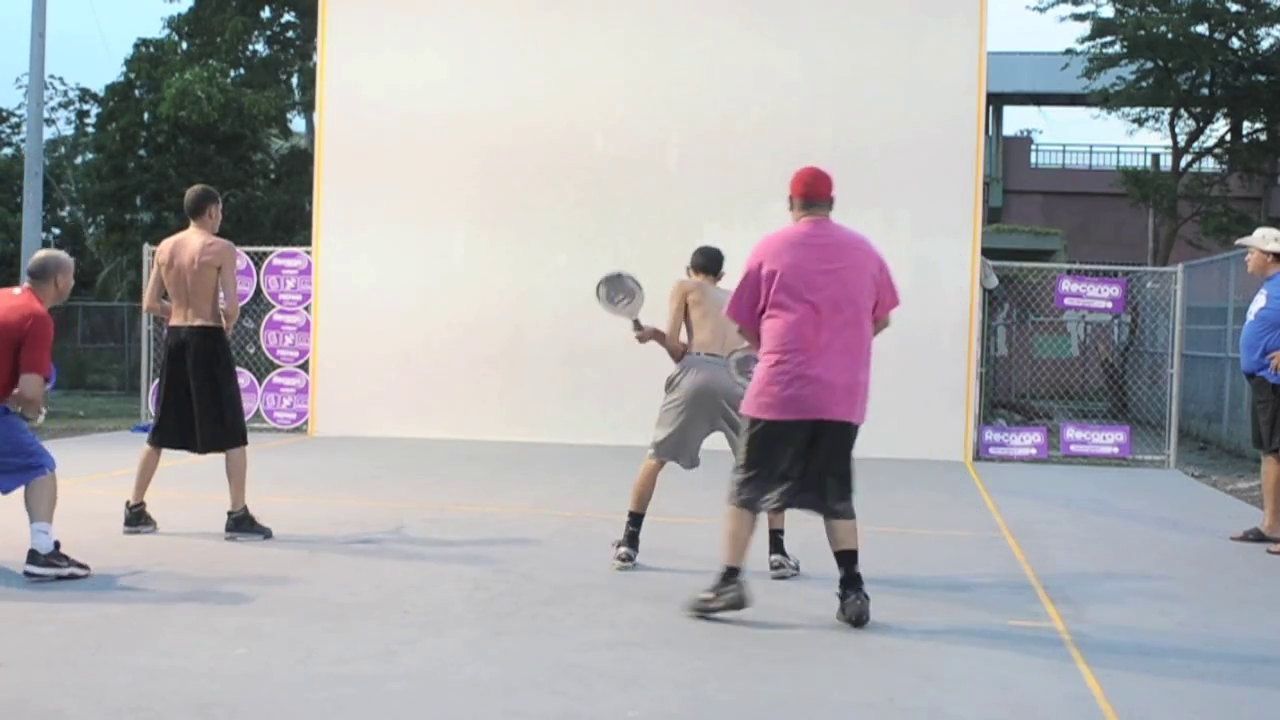person: (683, 165, 900, 627), (596, 246, 800, 579), (122, 185, 272, 542), (1, 247, 92, 582), (1230, 226, 1280, 556)
